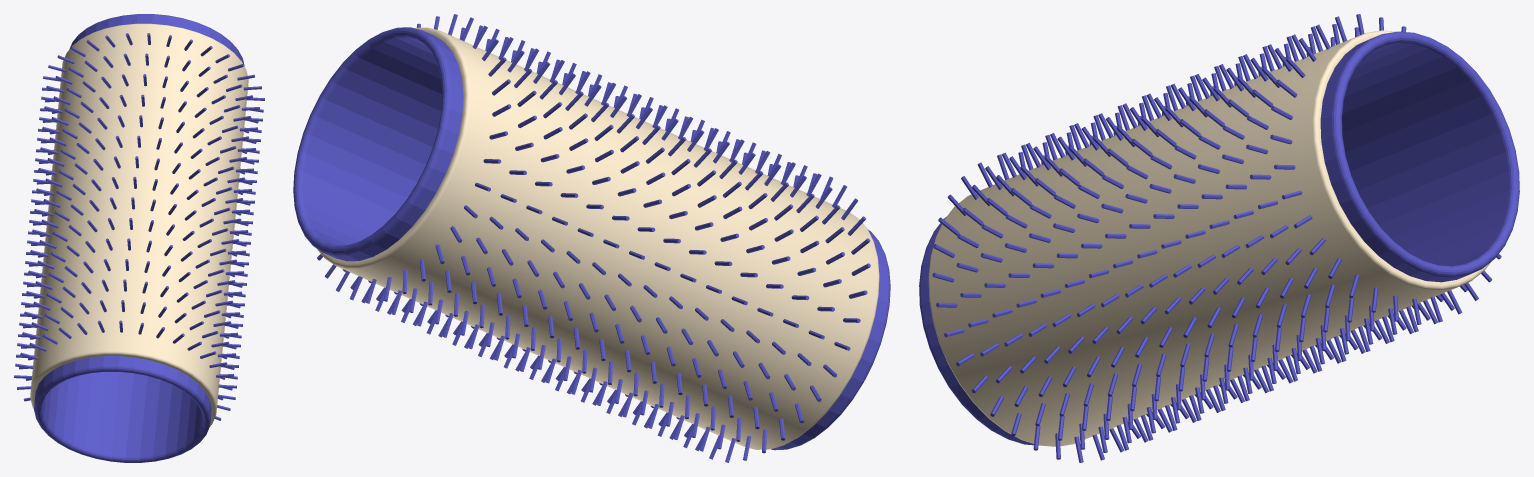
The model's file is bigoudis.fbx.
The picture shows the model from 3 angles, left to right: view 1: azimuth 30°, elevation 25°; view 2: azimuth 150°, elevation 25°; view 3: azimuth 270°, elevation 25°; orthographic projection. The views are drawn at different scales.
Parts seen in each view (by area): view 1: corps_bigoudis, centre_bigoudis, pic; view 2: corps_bigoudis, centre_bigoudis, pic; view 3: corps_bigoudis, centre_bigoudis, pic.
Part boxes in pixels (x1,y1,x2,y2): corps_bigoudis: (30, 23, 248, 426); centre_bigoudis: (34, 14, 244, 462); pic: (14, 33, 264, 420); corps_bigoudis: (316, 27, 879, 449); centre_bigoudis: (293, 27, 890, 450); pic: (317, 14, 870, 462); corps_bigoudis: (928, 30, 1490, 446); centre_bigoudis: (919, 31, 1519, 445); pic: (932, 14, 1501, 462).
Bounding box in the file's own units: 44.75 × 46.05 × 51.21.
